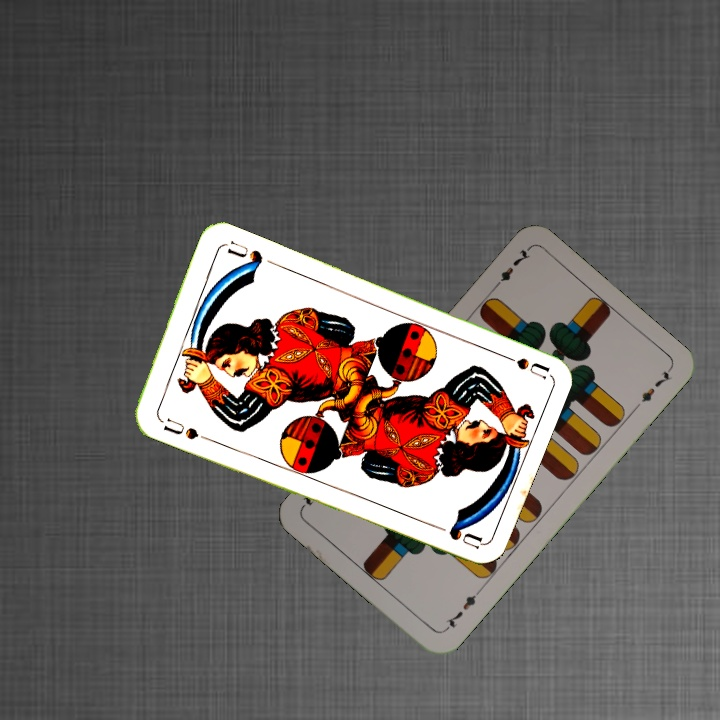E7: (441, 585, 484, 634), (490, 244, 533, 293)
SU: (492, 348, 550, 381), (153, 412, 201, 443)
